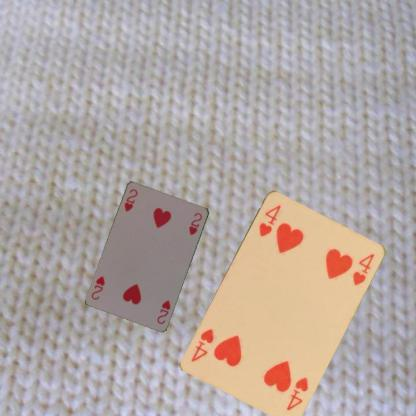2h: (154, 297, 172, 325), (121, 186, 139, 213)
4h: (283, 374, 310, 411), (256, 202, 282, 238)
